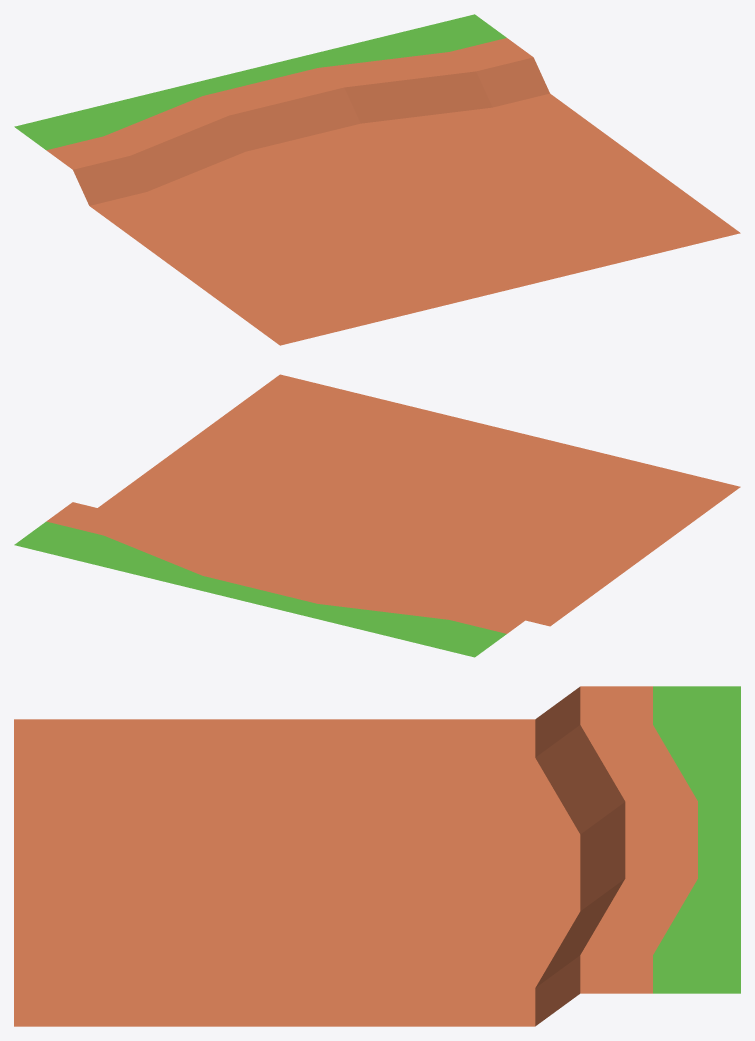
The model's file is ground_pathSide.glb.
3 renders of one model, top to bottom at view 1: azimuth 30°, elevation 25°; view 2: azimuth 150°, elevation 25°; view 3: azimuth 270°, elevation 25°, orthographic. The views are drawn at different scales.
Visible parts, largest first — view 1: ground_pathSide; view 2: ground_pathSide; view 3: ground_pathSide.
Part boxes in pixels (bbox=[...]): ground_pathSide: bbox=[14, 14, 740, 345]; ground_pathSide: bbox=[14, 374, 740, 657]; ground_pathSide: bbox=[14, 686, 740, 1026].
Size of the model in its own units: 1 by 0.05 by 1.
